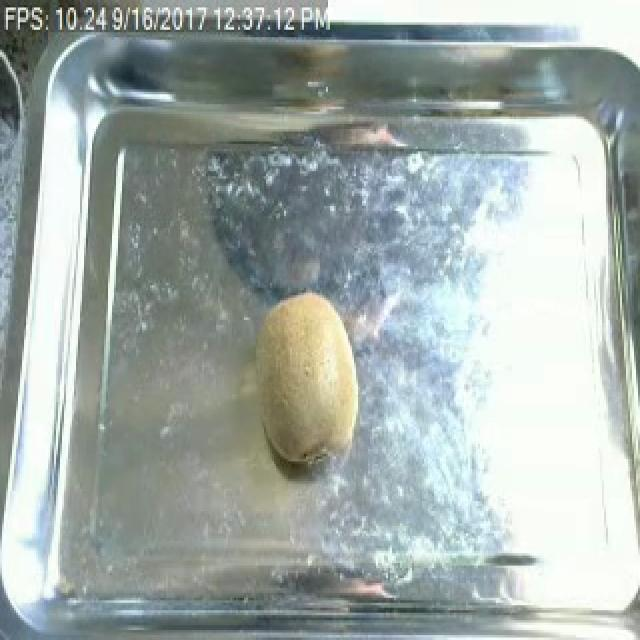Fruit: (246, 286, 368, 472)
